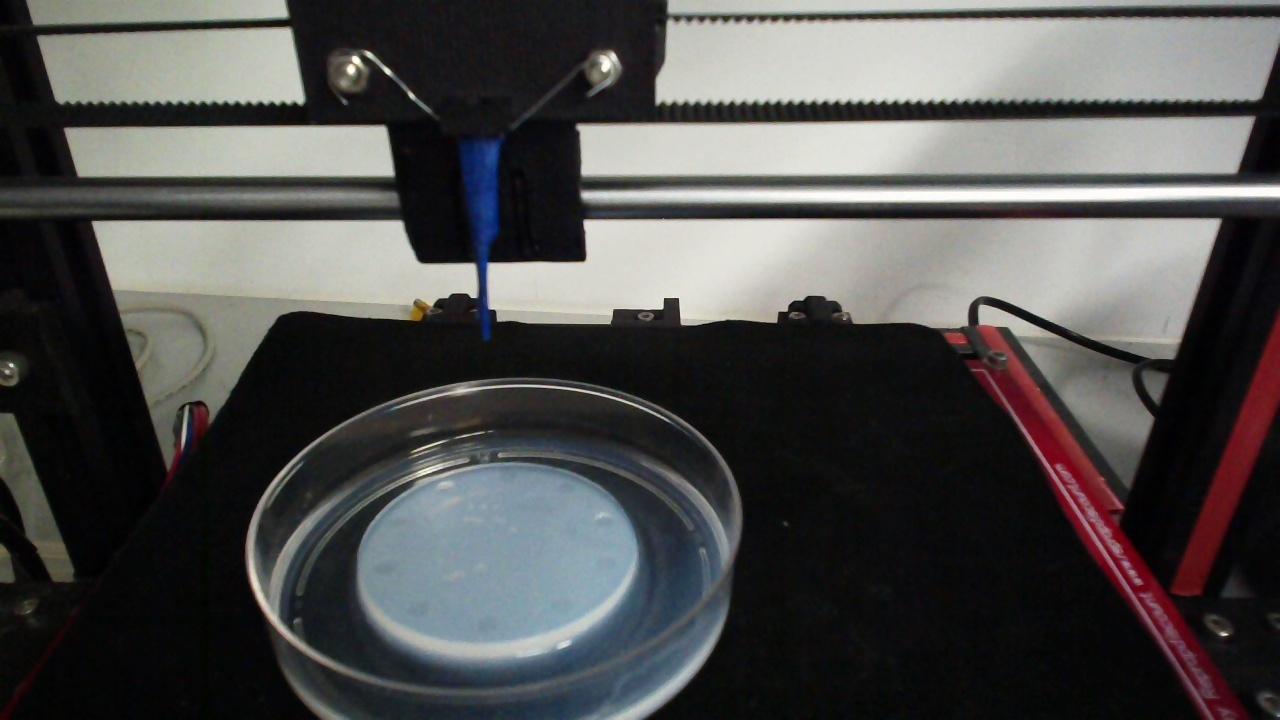groove: (475, 614, 500, 635), (371, 558, 400, 576), (405, 600, 434, 618), (549, 598, 574, 617), (594, 556, 616, 574), (434, 479, 456, 496), (554, 481, 577, 496), (387, 512, 407, 529), (594, 512, 615, 528), (498, 469, 519, 485)
needle: (462, 139, 499, 343)
